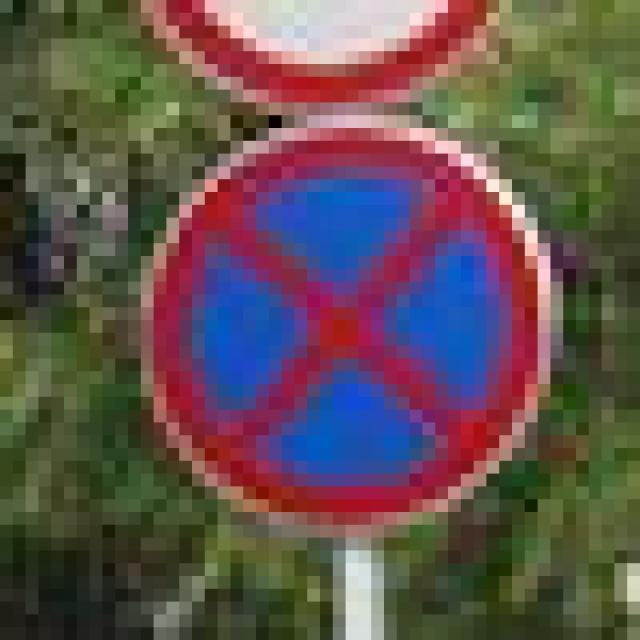no stopping or standing: (128, 107, 568, 536)
